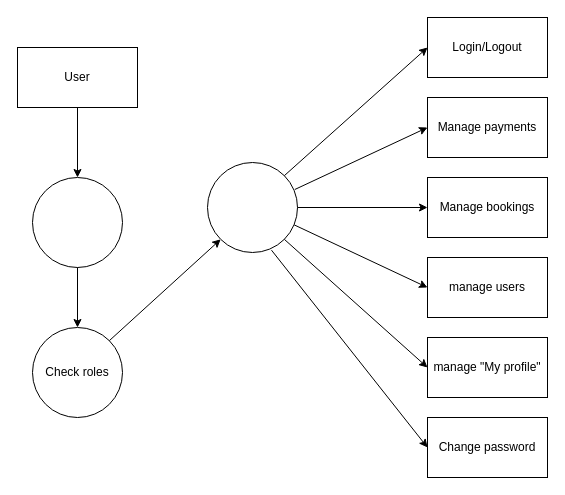
Some shapes in this 565 by 495 pixel diagram are drawn without their labels. The shapes that lost their labels are listed below. From the top down, each one's centre as x and y in pixels, then its label:
At [77,222]: "Admin login".
At [252,207]: "Admin module".
